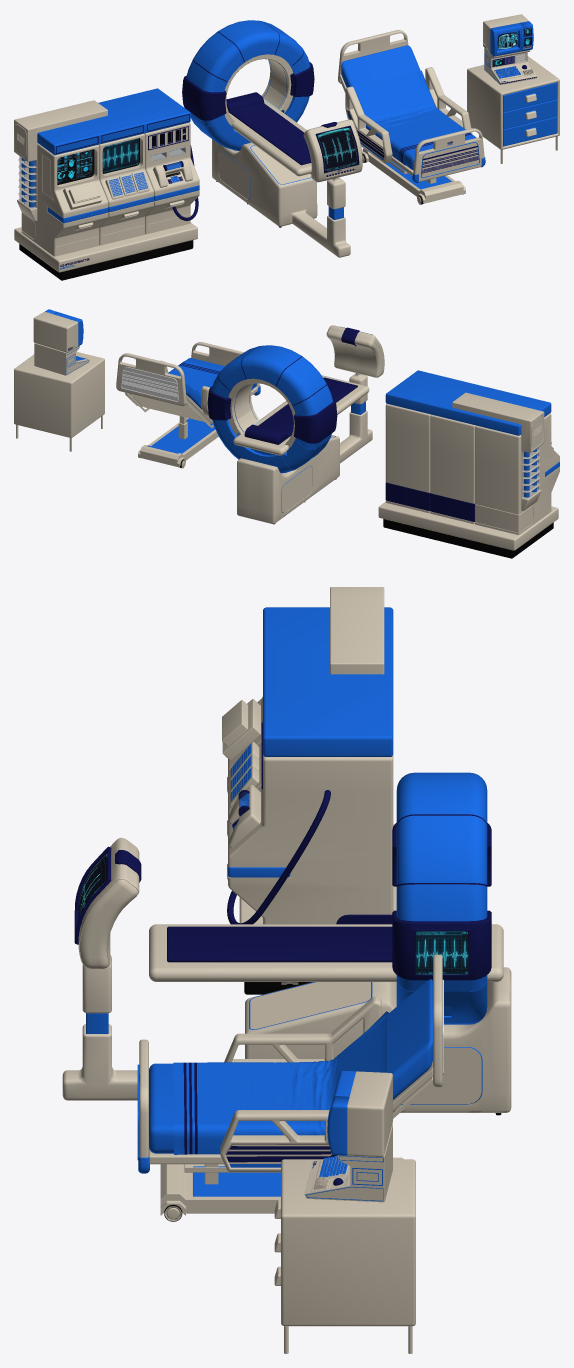
File: Medical equipment.glb
The picture shows the model from 3 angles, top to bottom: view 1: azimuth 30°, elevation 25°; view 2: azimuth 150°, elevation 25°; view 3: azimuth 270°, elevation 25°; orthographic projection. The views are drawn at different scales.
Parts seen in each view (by area): view 1: Medical processor, Scanner, Bed, Drawers, Computer; view 2: Medical processor, Scanner, Bed, Drawers, Computer; view 3: Scanner, Medical processor, Bed, Drawers, Computer.
Boxes of the visible parts, x1,y1,x2,y2 form: Medical processor: (14,88,199,280); Scanner: (182,20,362,257); Bed: (338,30,485,204); Drawers: (467,56,559,163); Computer: (483,14,537,84); Medical processor: (378,370,559,558); Scanner: (207,325,384,524); Bed: (116,342,260,468); Drawers: (14,352,104,451); Computer: (33,309,89,375); Scanner: (62,772,511,1115); Medical processor: (222,587,396,994); Bed: (137,954,443,1221); Drawers: (274,1159,415,1353); Computer: (304,1070,392,1202).
Size of the model in its own units: 7.62 by 2.25 by 2.91.
27 materials, 6 textured.
